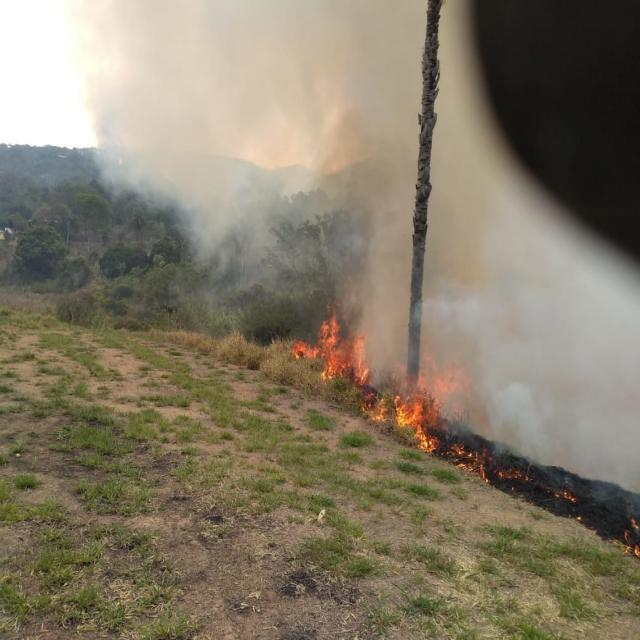Fire: (376, 350, 474, 454), (288, 316, 369, 386)
